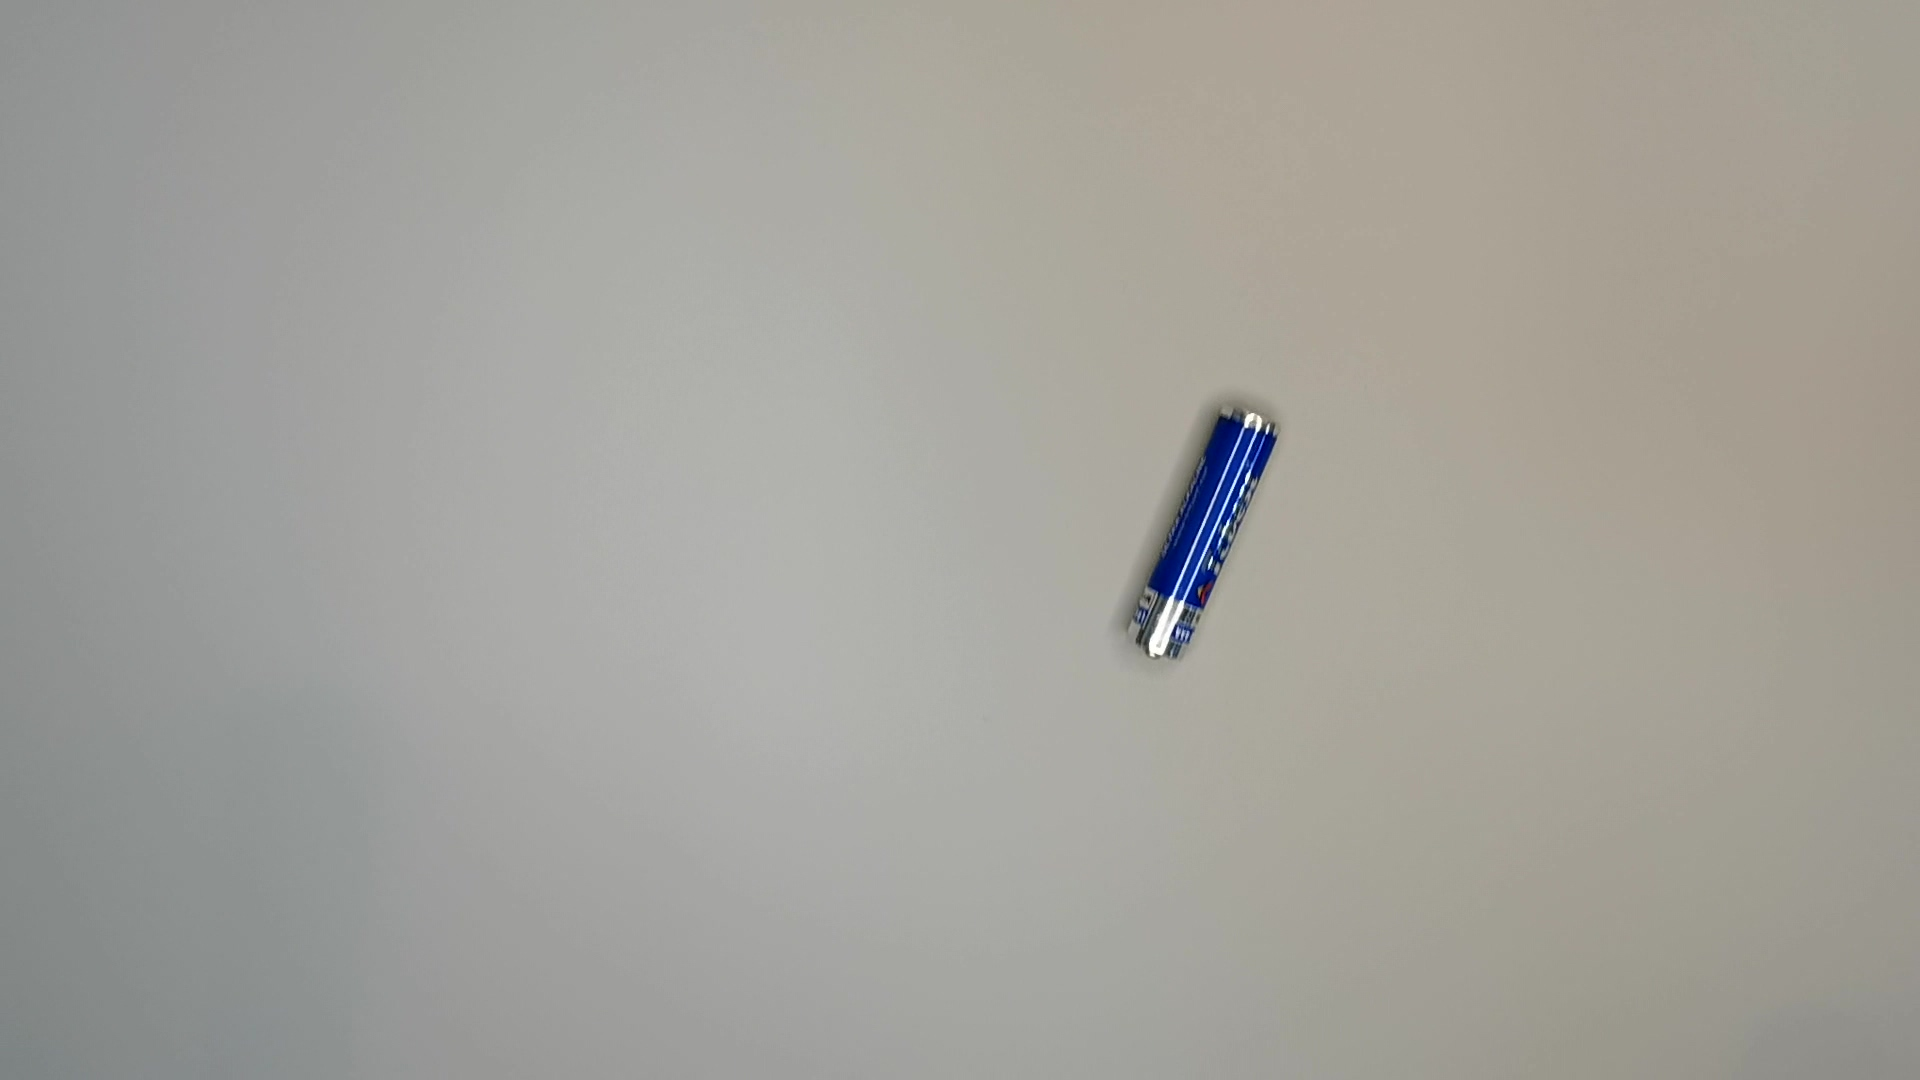battery: (1112, 396, 1299, 673)
